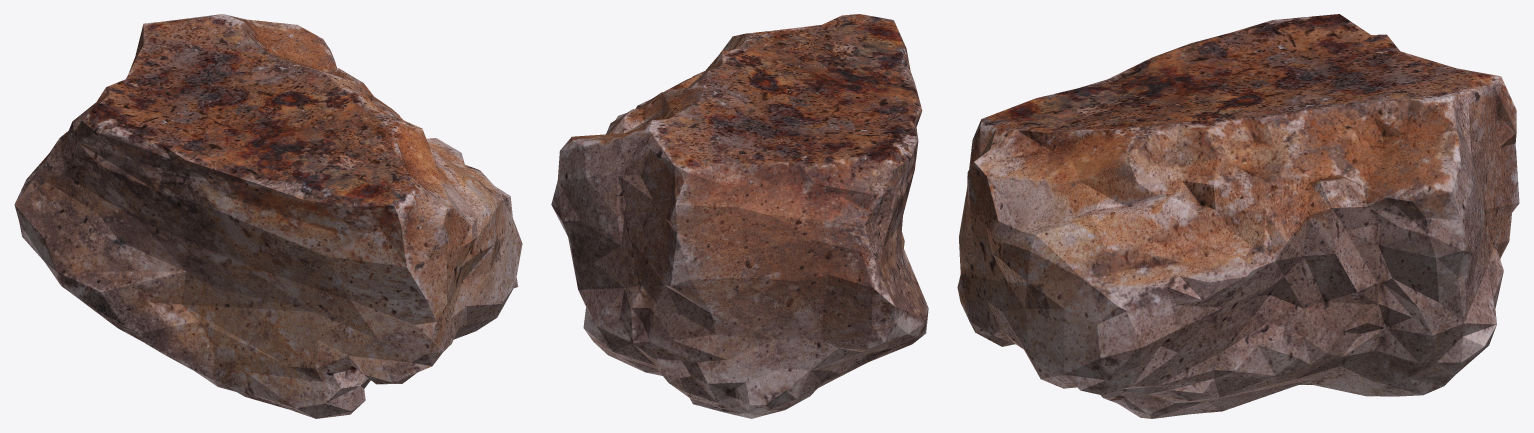
The model's file is 7NVD901GRSYZM8C705GUZDDPI.fbx.
The picture shows the model from 3 angles, left to right: view 1: azimuth 30°, elevation 25°; view 2: azimuth 150°, elevation 25°; view 3: azimuth 270°, elevation 25°; orthographic projection. The views are drawn at different scales.
Parts seen in each view (by area): view 1: Object_TexMap; view 2: Object_TexMap; view 3: Object_TexMap.
Boxes of the visible parts, x1=… form: Object_TexMap: x1=14, y1=14, x2=522, y2=418; Object_TexMap: x1=551, y1=14, x2=928, y2=418; Object_TexMap: x1=957, y1=14, x2=1519, y2=418.
Bounding box in the file's own units: 2.03 × 1.41 × 2.28.
